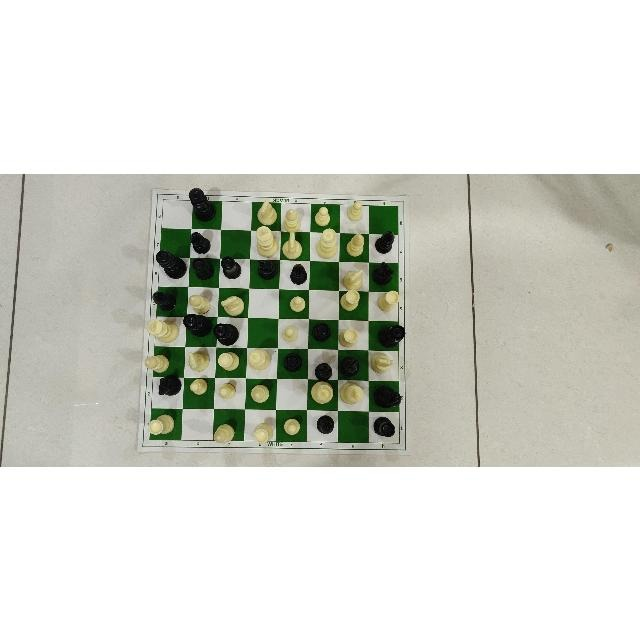black-bishop: (150, 288, 177, 312), (189, 229, 213, 255), (287, 258, 309, 286), (313, 411, 337, 436), (373, 230, 397, 254), (314, 361, 334, 379)
black-king: (188, 186, 218, 222), (155, 249, 186, 279), (371, 382, 403, 410)
black-knight: (156, 372, 183, 398), (368, 260, 395, 285), (256, 258, 278, 279), (340, 353, 360, 376)
black-queen: (183, 314, 213, 338), (214, 320, 240, 346), (378, 324, 406, 348)
black-rook: (190, 255, 216, 283), (371, 414, 397, 439), (222, 254, 244, 280), (282, 350, 306, 372), (311, 320, 331, 342)
white-bishop: (344, 232, 367, 258), (144, 353, 172, 373), (187, 291, 211, 314), (213, 420, 237, 443), (250, 380, 272, 405), (282, 207, 303, 230)
white-king: (144, 314, 178, 343), (252, 223, 278, 257), (340, 380, 364, 402)
white-knight: (185, 347, 212, 372), (256, 200, 280, 228), (220, 292, 246, 317), (280, 229, 301, 257), (341, 265, 365, 289), (369, 350, 394, 373)
white-pawn: (216, 378, 239, 401), (345, 198, 365, 224), (312, 202, 334, 225), (280, 320, 299, 345), (188, 375, 209, 397), (282, 414, 302, 436), (286, 292, 307, 312)
white-queen: (308, 379, 338, 407), (316, 226, 338, 260), (248, 346, 272, 372)
white-rook: (146, 410, 176, 439), (216, 348, 242, 371), (374, 290, 399, 313), (339, 290, 362, 314), (254, 421, 274, 445), (338, 325, 358, 348)
